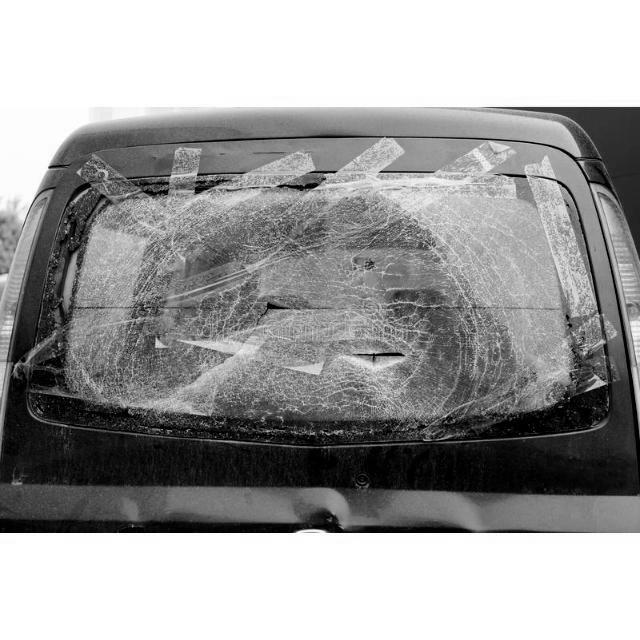Rear-windscreen-Damage: (34, 155, 631, 482)
